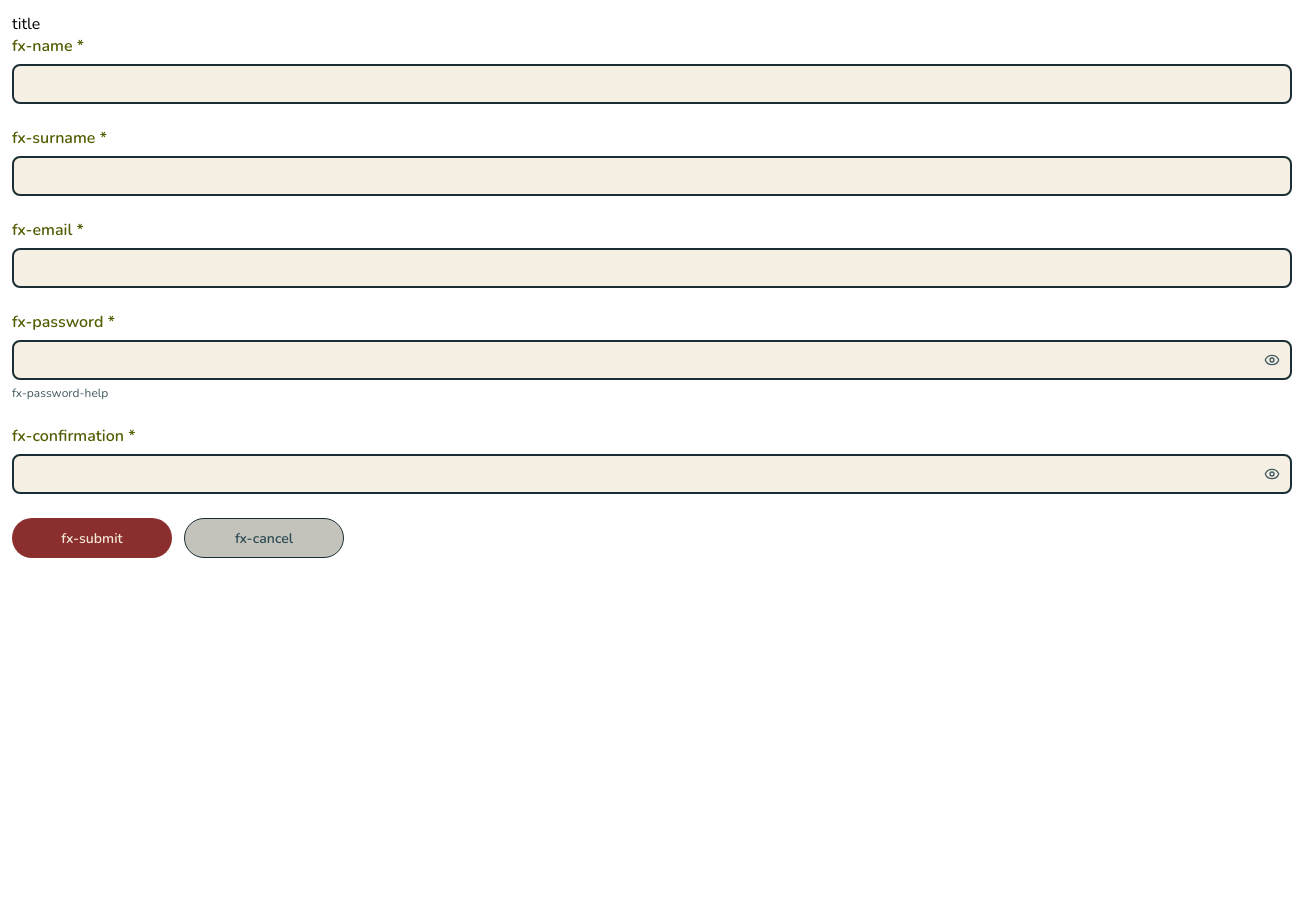
Scenario: RegisterForm — client checks › focuses the first failing field when several fail
Click the button "fx-submit". click: click(92, 538)
box: x1=12 y1=518 x2=172 y2=558
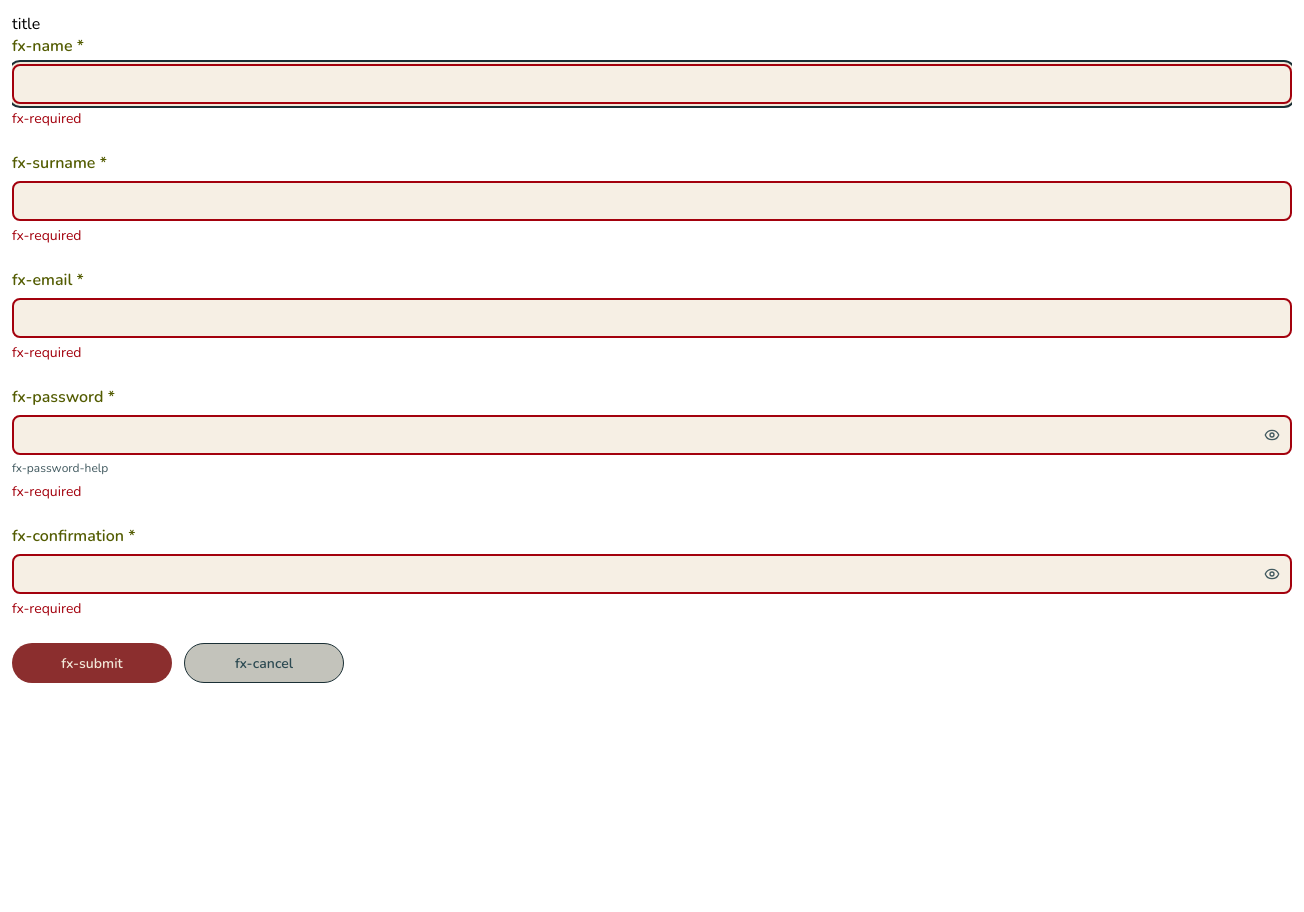
Result: the text "fx-required" is shown 5 times at x1=12 y1=109 x2=82 y2=128; x1=12 y1=226 x2=82 y2=245; x1=12 y1=343 x2=82 y2=362; x1=12 y1=482 x2=82 y2=501; x1=12 y1=599 x2=82 y2=618
